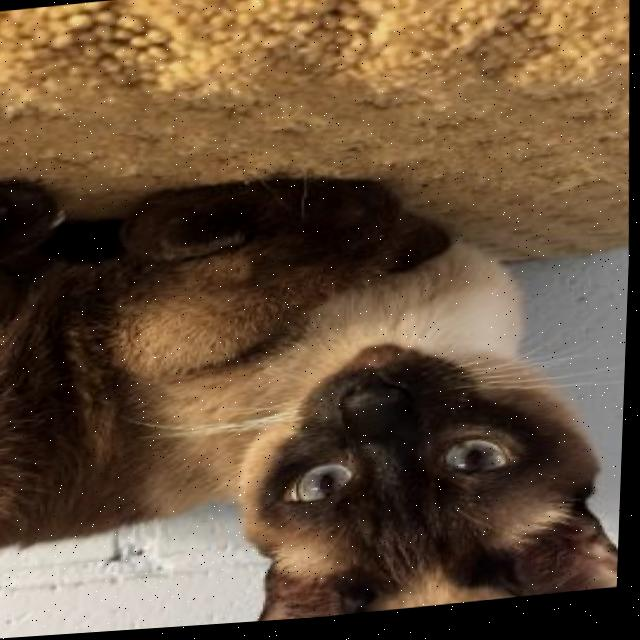Siamese: (0, 115, 636, 640)
